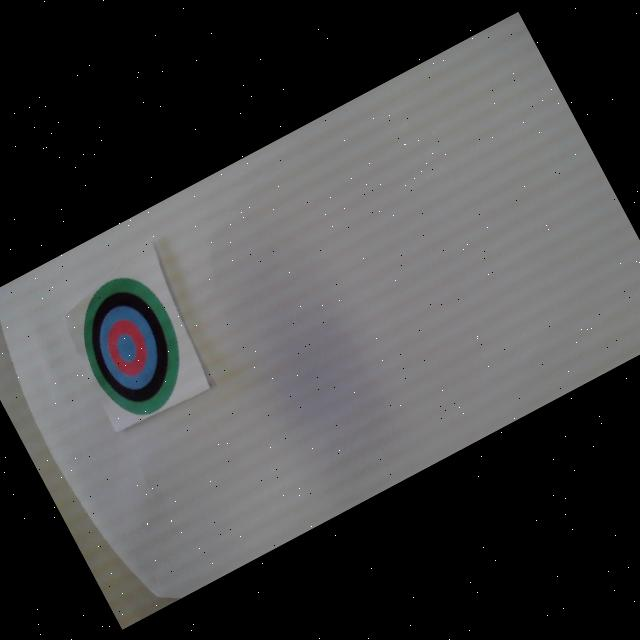COGNITIVE: (57, 262, 208, 430)
